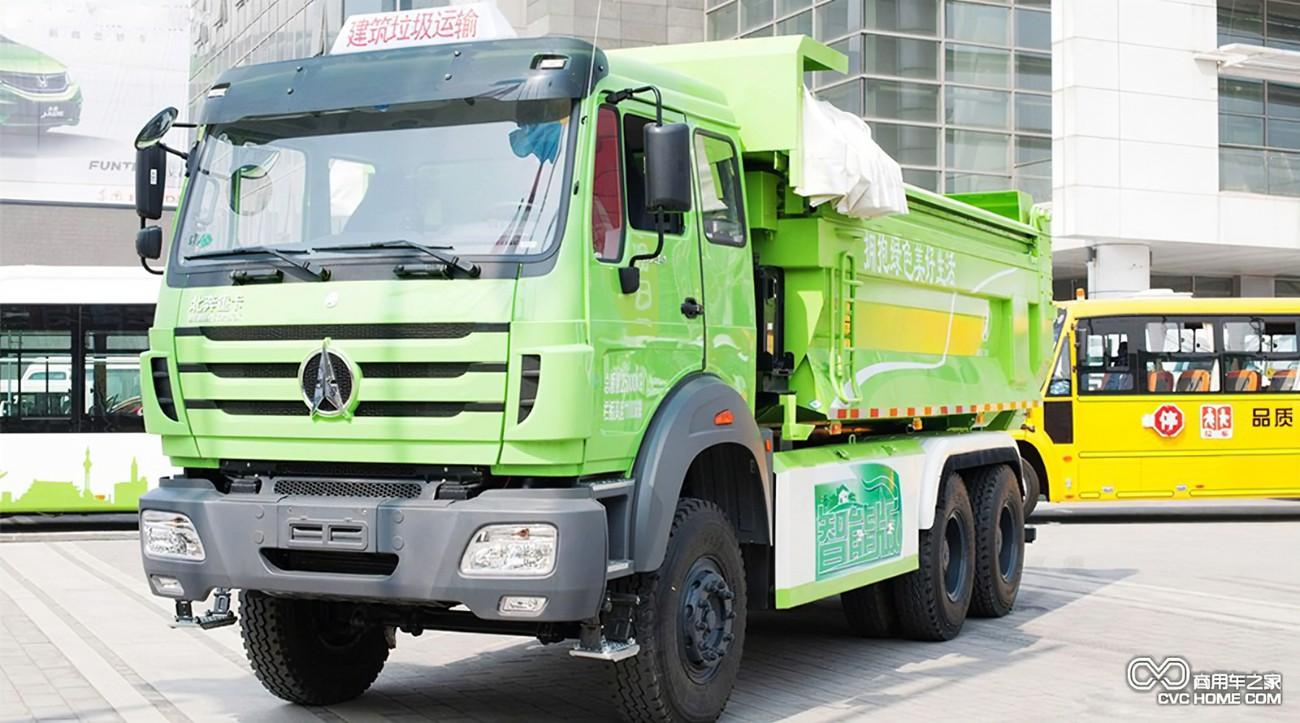truck: (131, 9, 1066, 723)
